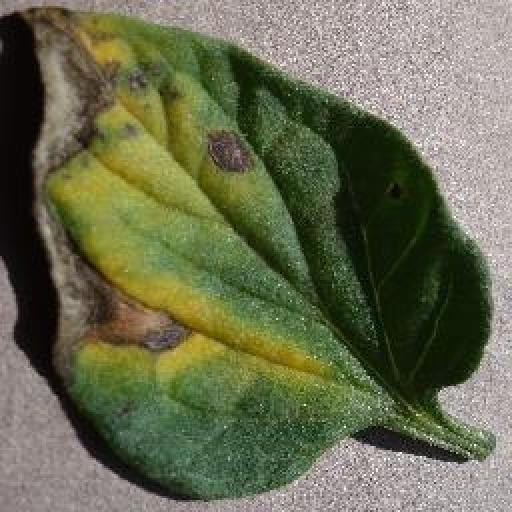Early Blight: (27, 7, 495, 504)
